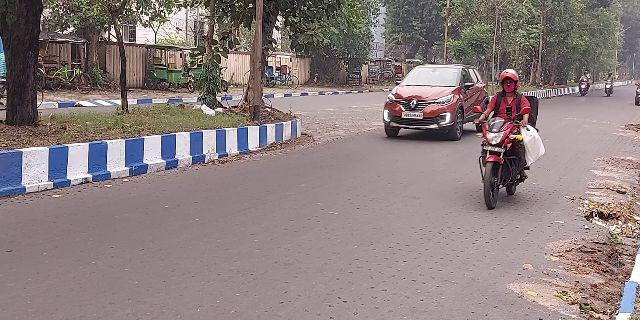Car: (374, 61, 486, 139)
Motorbike: (473, 67, 539, 217), (576, 68, 599, 102), (595, 68, 617, 98)
